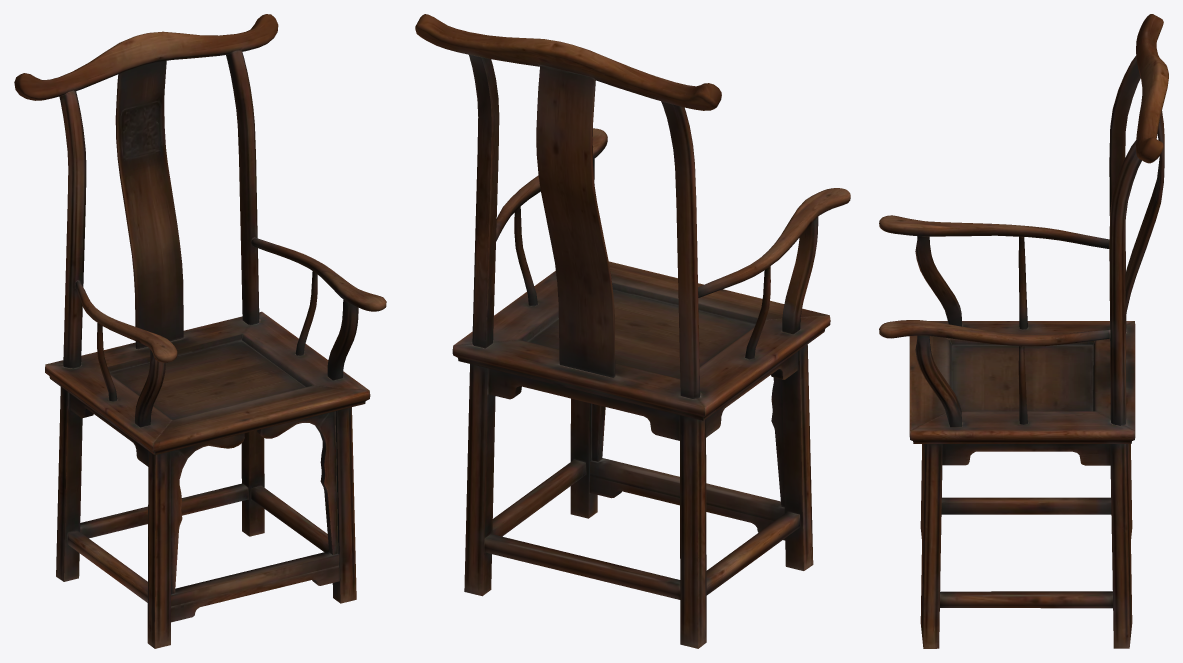
The model's file is chinese_armchair.glb.
The picture shows the model from 3 angles, left to right: view 1: azimuth 30°, elevation 25°; view 2: azimuth 150°, elevation 25°; view 3: azimuth 270°, elevation 25°; orthographic projection. The views are drawn at different scales.
Visible parts, largest first — view 1: chinese_armchair; view 2: chinese_armchair; view 3: chinese_armchair.
Boxes of the visible parts, x1=… form: chinese_armchair: x1=14, y1=14, x2=386, y2=648; chinese_armchair: x1=415, y1=14, x2=850, y2=648; chinese_armchair: x1=879, y1=14, x2=1168, y2=648.
Bounding box in the file's own units: 0.8483 × 1.59 × 0.7886.
Materials: 1 (1 with a texture image).
